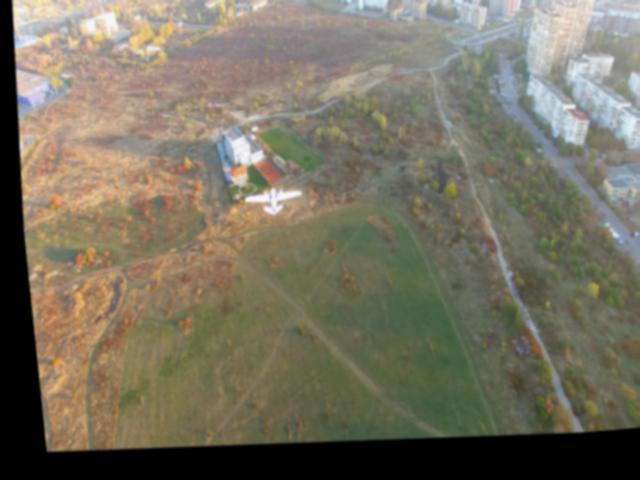plane: (238, 188, 301, 224)
